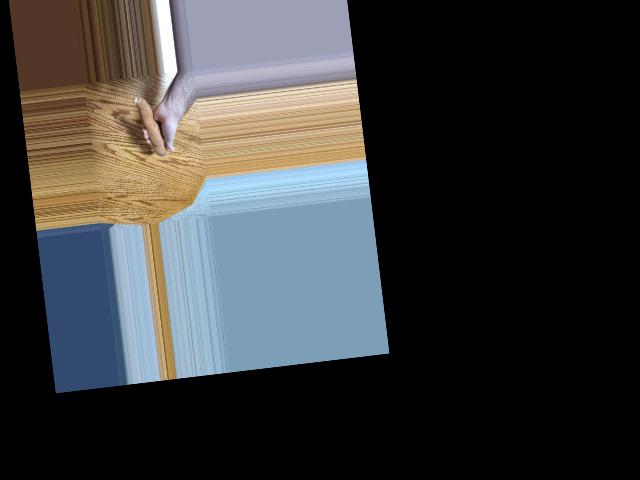sweet_potato: (143, 94, 167, 158)
